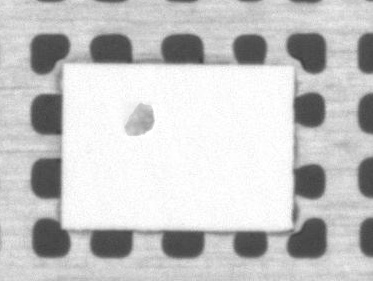DIE_INK: (158, 73, 211, 106)
